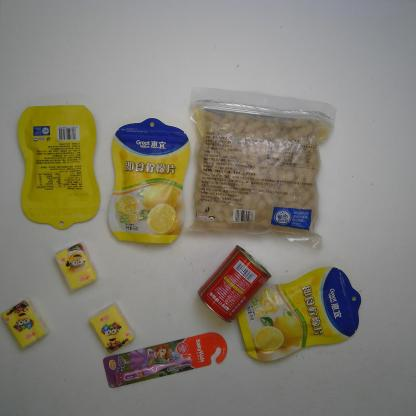Canned Food: (194, 243, 276, 326)
Dried Food: (182, 82, 339, 252)
Dried Fruit: (233, 265, 363, 366), (102, 118, 192, 248), (14, 102, 104, 232)
Personal Hygiene: (100, 330, 229, 390)
Tissue: (0, 295, 52, 351), (87, 300, 136, 354), (53, 239, 100, 294)
